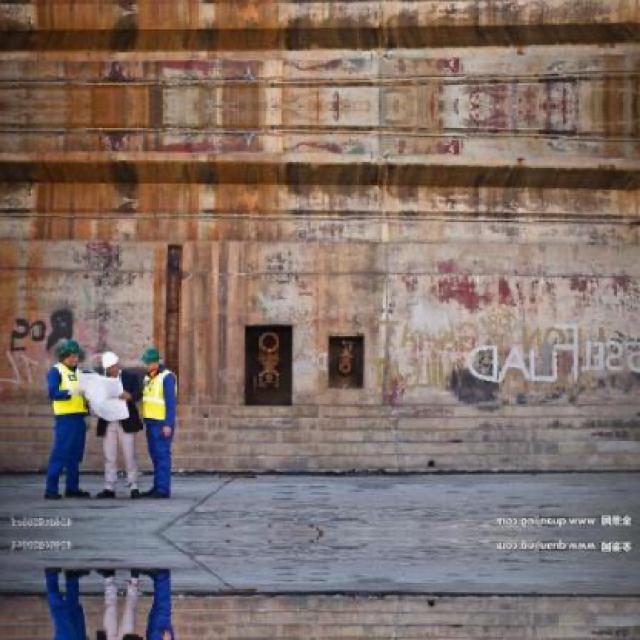con casco: (78, 342, 132, 412), (27, 326, 85, 388), (137, 346, 180, 405)
